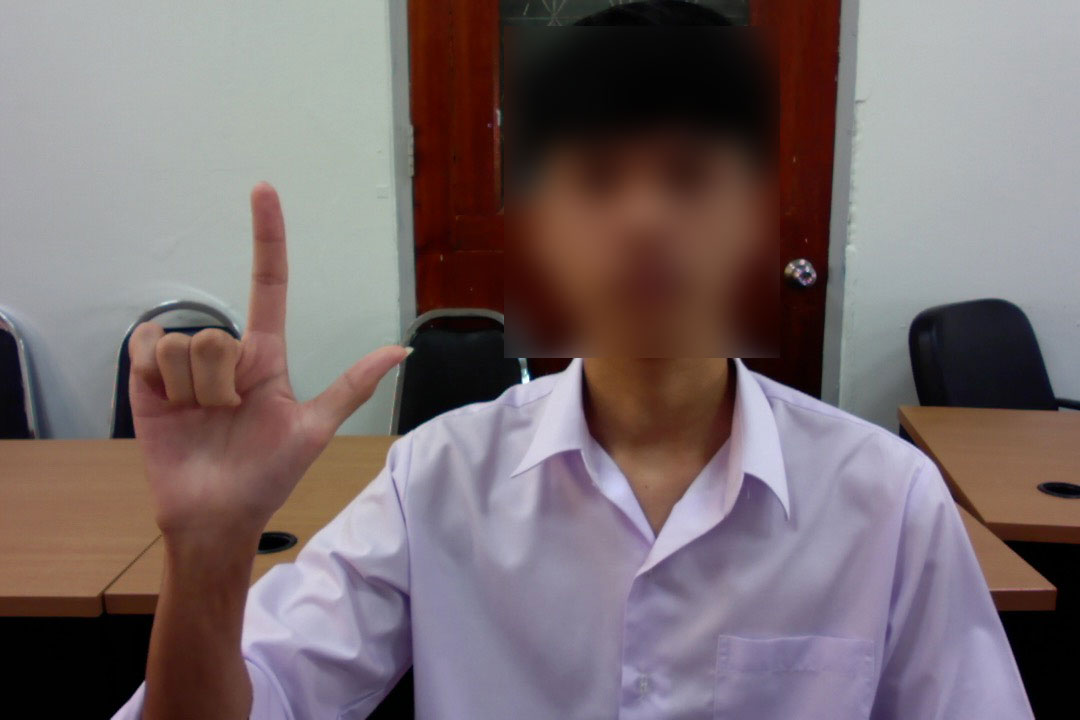lor: (117, 172, 419, 581)
